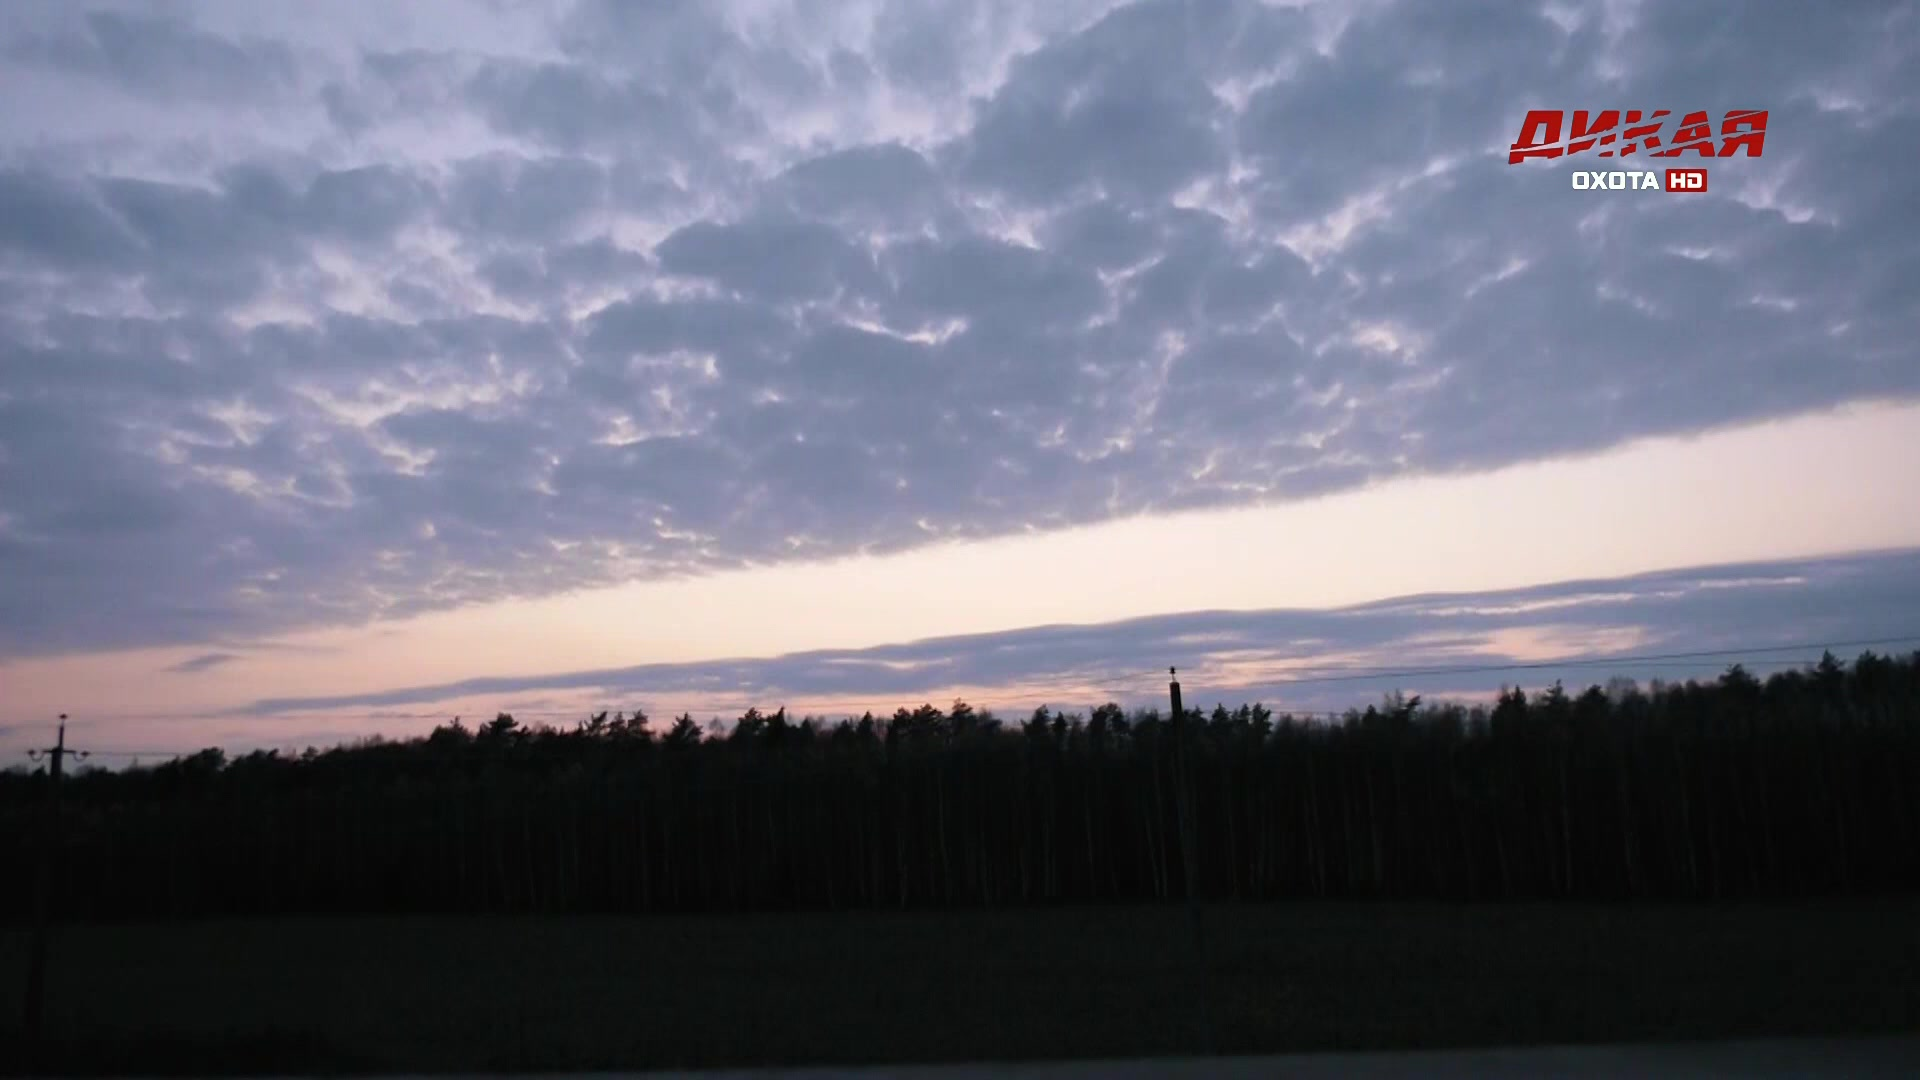Dikaya_Ohota_HD: (1506, 105, 1776, 199)
